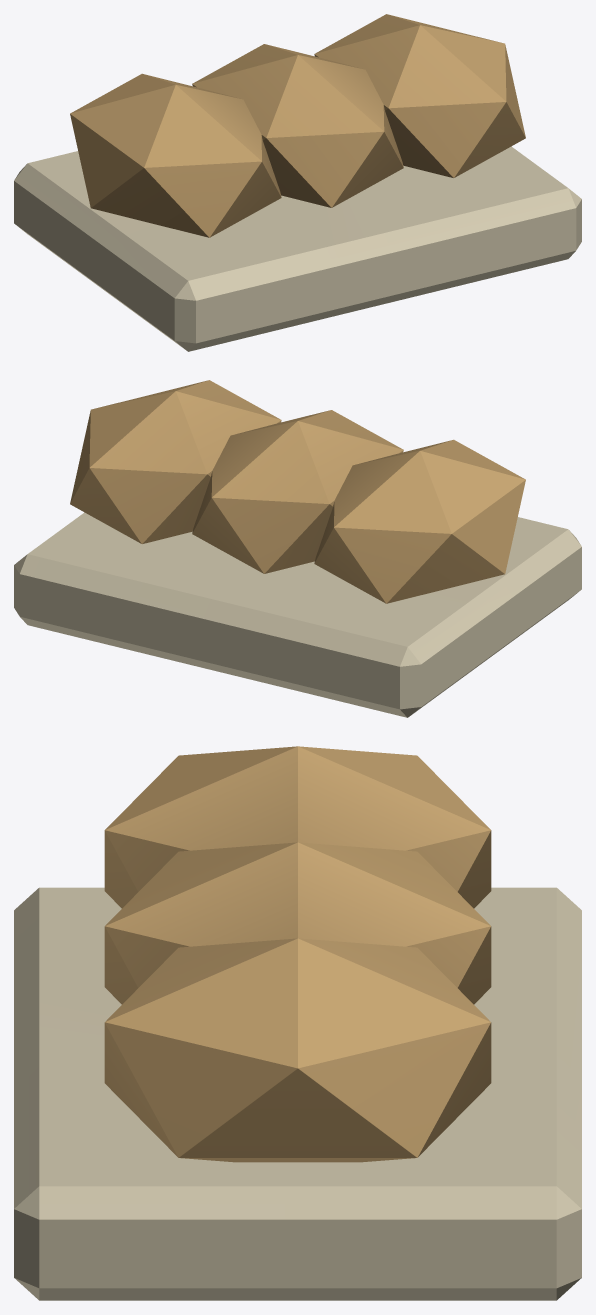
The model's file is bread_bundle.glb.
3 views of the same model, one above another, from view 1: azimuth 30°, elevation 25°; view 2: azimuth 150°, elevation 25°; view 3: azimuth 270°, elevation 25° (orthographic). The views are drawn at different scales.
Parts seen in each view (by area): view 1: bread_bundle; view 2: bread_bundle; view 3: bread_bundle.
Part boxes in pixels (x1,y1,x2,y2): bread_bundle: [14, 14, 581, 351]; bread_bundle: [14, 380, 581, 717]; bread_bundle: [14, 746, 581, 1300].
Bounding box in the file's own units: 0.6104 × 0.27 × 0.45.
